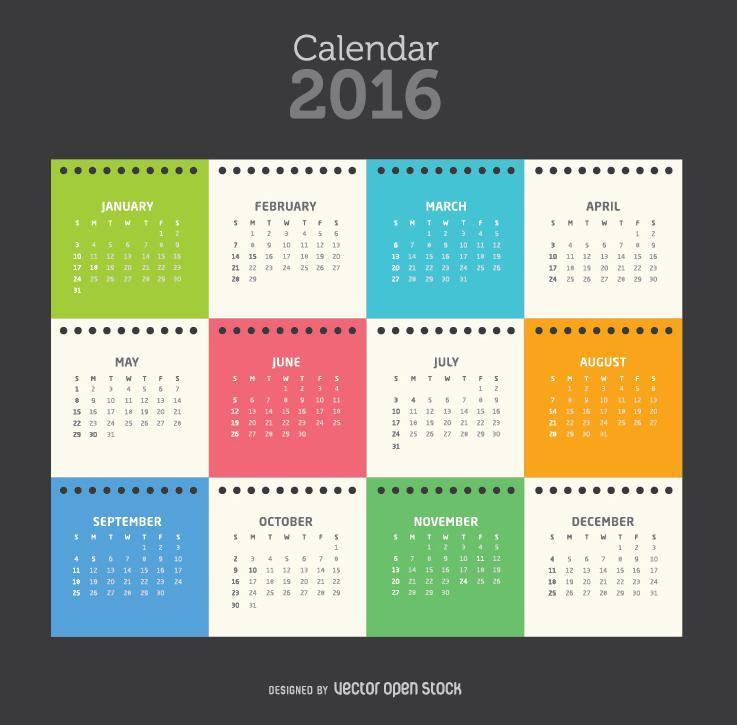calendar: (46, 151, 684, 644)
